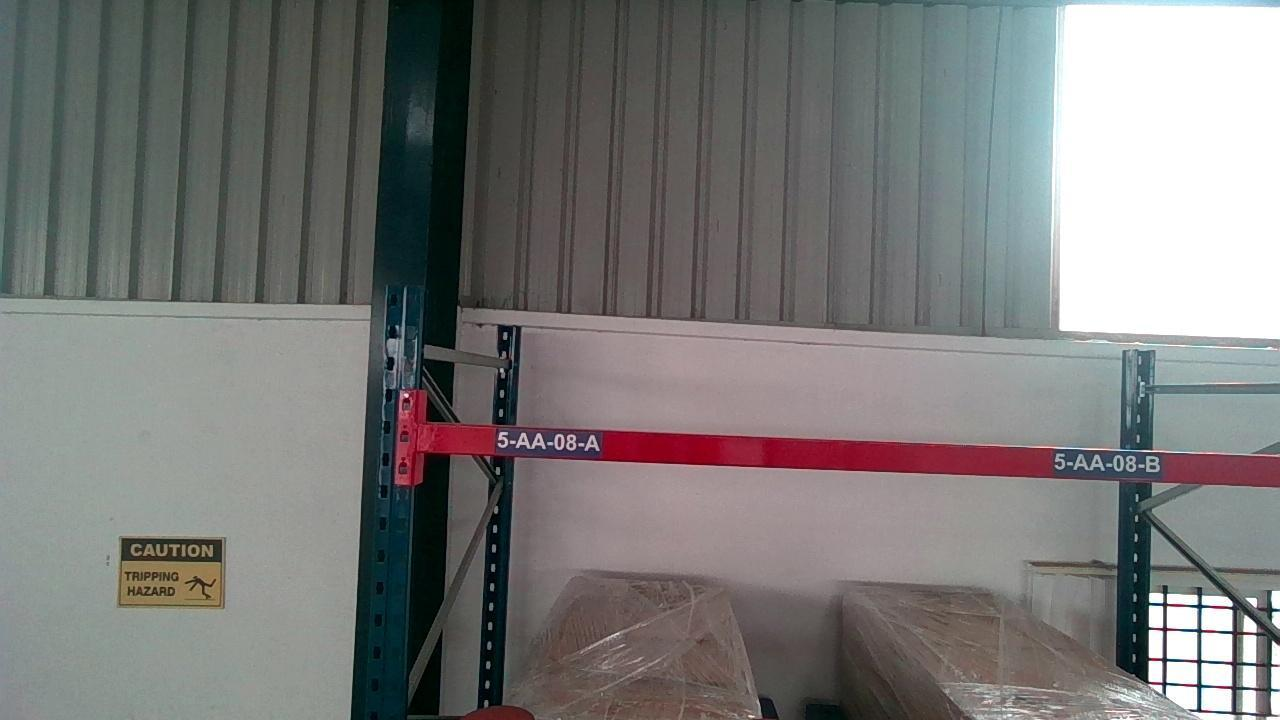h_rack: (412, 425, 1280, 482)
